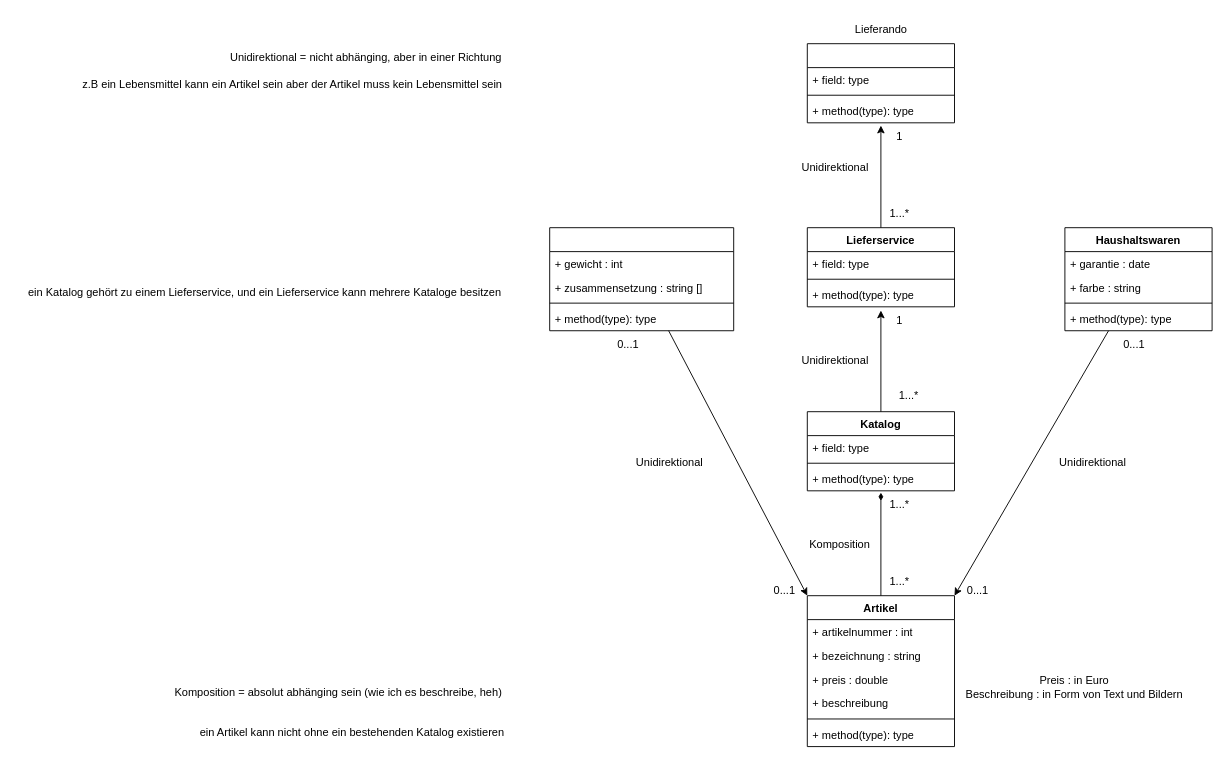
Image size: 1228x765. Some labels were removed from this diagram. Here are the shapes that lost their labels. From the top down, the box of each, then its label:
(806, 43, 954, 123): App
(549, 227, 734, 331): Lebensmittel
